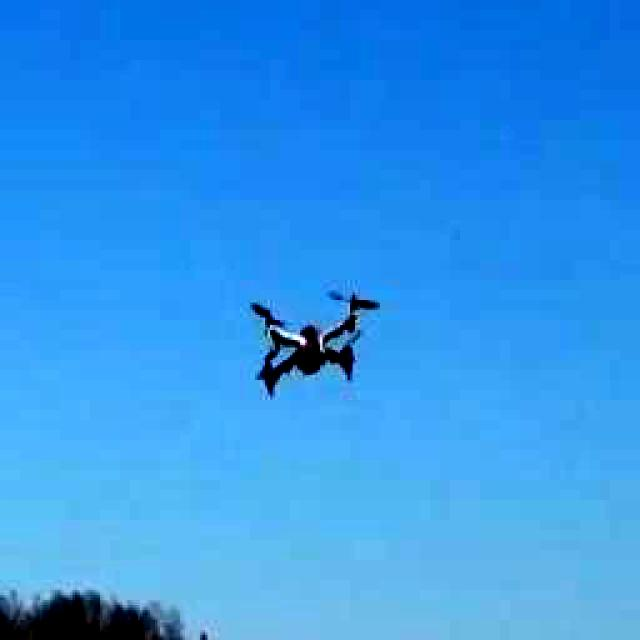bird: (210, 265, 395, 430)
